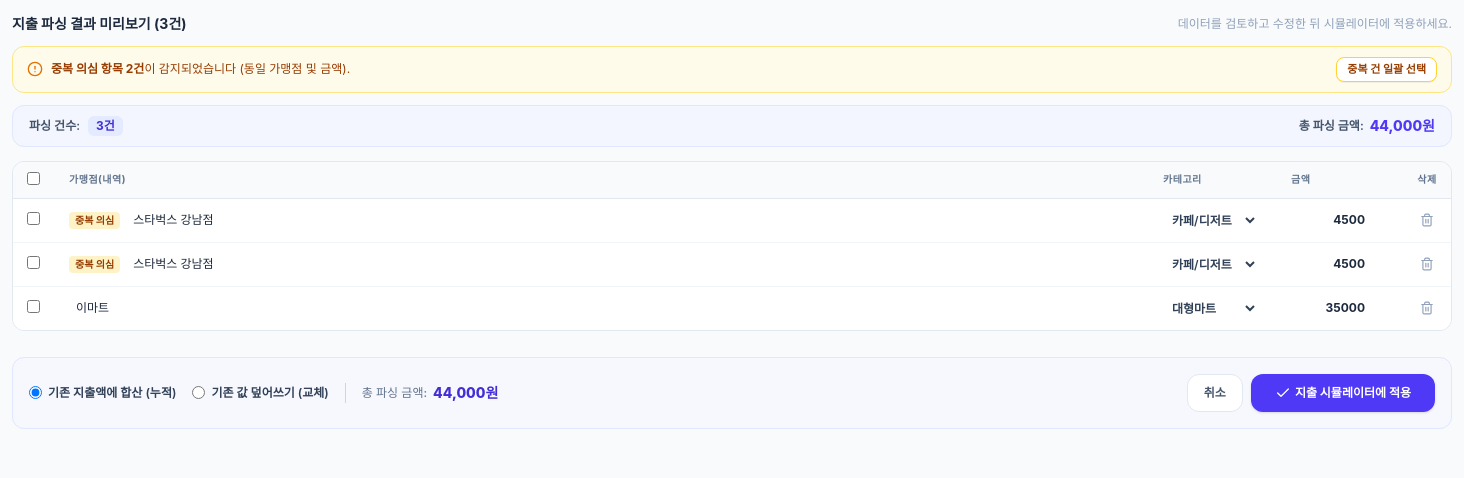
Test: ParsedItemsTable 가맹점명 및 금액 유효성 검사 › 다중 영수증 중복 의심 항목 렌더링 및 일괄 선택 › 중복 의심 항목이 있을 때 경고 배너와 행 뱃지가 표시되고 일괄 선택할 수 있어야 한다
Expected: the text "중복 의심 항목 2건" is shown, [51,61,144,76]
Expected: the text "중복 의심" is shown 2 times, [69,212,120,229]; [69,256,120,273]
# 일괄 선택 버튼 클릭
Click the button "중복 건 일괄 선택" at (1387, 69), box [1336,57,1437,82]
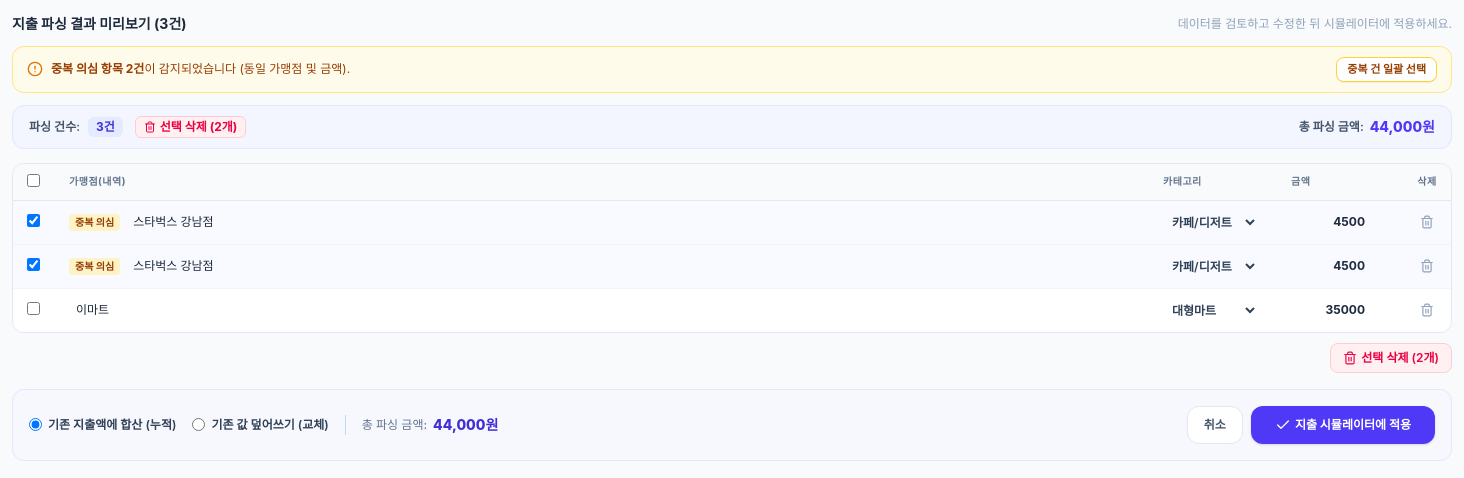
Result: the button "선택 삭제 (2개)" in the row of "파싱 건수:" is shown at [135,116,246,138]
